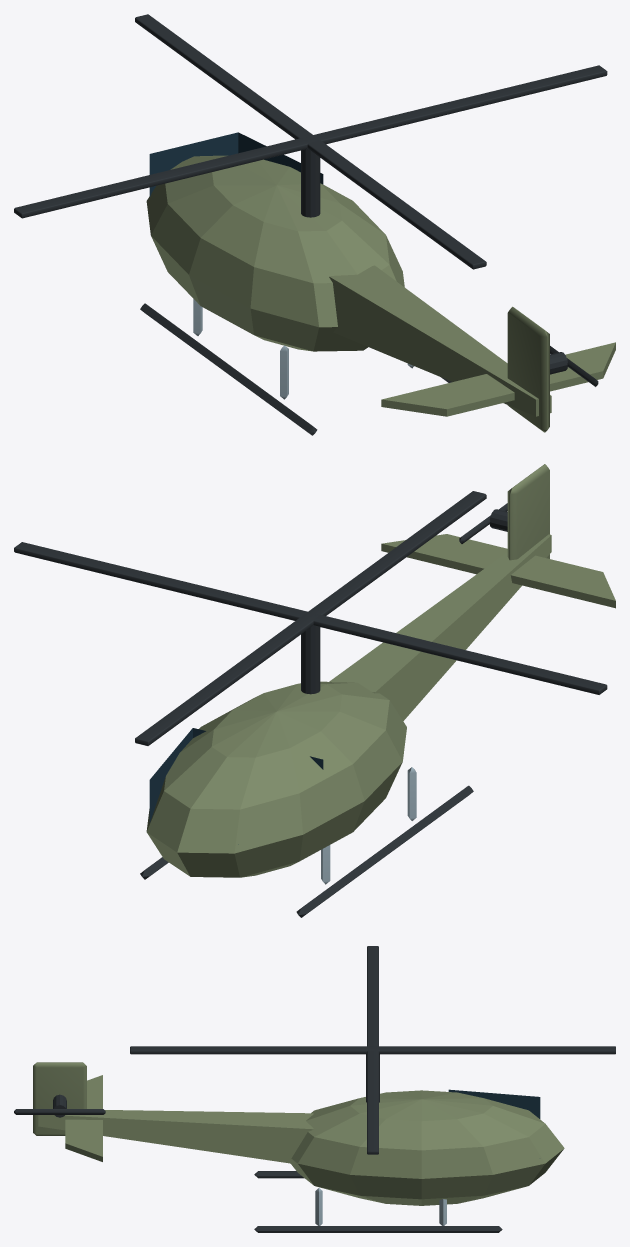
Rendered from helicopter.glb.
3 renders of one model, top to bottom at view 1: azimuth 30°, elevation 25°; view 2: azimuth 150°, elevation 25°; view 3: azimuth 270°, elevation 25°, orthographic. The views are drawn at different scales.
Visible parts, largest first — view 1: Armored helicopter cabin, Tapered tail boom, Rotor, Rotor cross blade, Tail stabilizer, Tail fin, Wraparound cockpit, Landing skid, Rotor mast; view 2: Armored helicopter cabin, Tapered tail boom, Rotor, Rotor cross blade, Tail stabilizer, Tail fin, Landing skid, Rotor mast, Wraparound cockpit; view 3: Armored helicopter cabin, Tapered tail boom, Rotor cross blade, Tail fin, Rotor, Tail stabilizer, Landing skid.001, Wraparound cockpit, Tail rotor.
Part boxes in pixels (left/top/right/bottom): Armored helicopter cabin: left=146, top=155, right=404, bottom=351; Tapered tail boom: left=329, top=265, right=551, bottom=416; Rotor: left=14, top=65, right=607, bottom=218; Rotor cross blade: left=135, top=14, right=486, bottom=269; Tail stabilizer: left=381, top=342, right=615, bottom=416; Tail fin: left=507, top=306, right=549, bottom=432; Wraparound cockpit: left=149, top=132, right=323, bottom=196; Landing skid: left=140, top=303, right=317, bottom=435; Rotor mast: left=301, top=149, right=320, bottom=217; Armored helicopter cabin: left=146, top=681, right=406, bottom=877; Tapered tail boom: left=329, top=534, right=551, bottom=720; Rotor: left=14, top=542, right=607, bottom=694; Rotor cross blade: left=135, top=491, right=486, bottom=745; Tail stabilizer: left=381, top=534, right=615, bottom=608; Tail fin: left=507, top=464, right=549, bottom=560; Landing skid: left=296, top=785, right=473, bottom=917; Rotor mast: left=301, top=625, right=320, bottom=694; Wraparound cockpit: left=149, top=728, right=323, bottom=844; Armored helicopter cabin: left=291, top=1090, right=564, bottom=1205; Tapered tail boom: left=38, top=1110, right=313, bottom=1164; Rotor cross blade: left=130, top=1046, right=615, bottom=1054; Tail fin: left=33, top=1062, right=86, bottom=1135; Rotor: left=367, top=946, right=378, bottom=1154; Tail stabilizer: left=65, top=1075, right=102, bottom=1161; Landing skid.001: left=254, top=1226, right=502, bottom=1232; Wraparound cockpit: left=448, top=1089, right=540, bottom=1118; Tail rotor: left=14, top=1109, right=105, bottom=1114.
Bounding box in the file's own units: 9 × 3.21 × 11.15.
